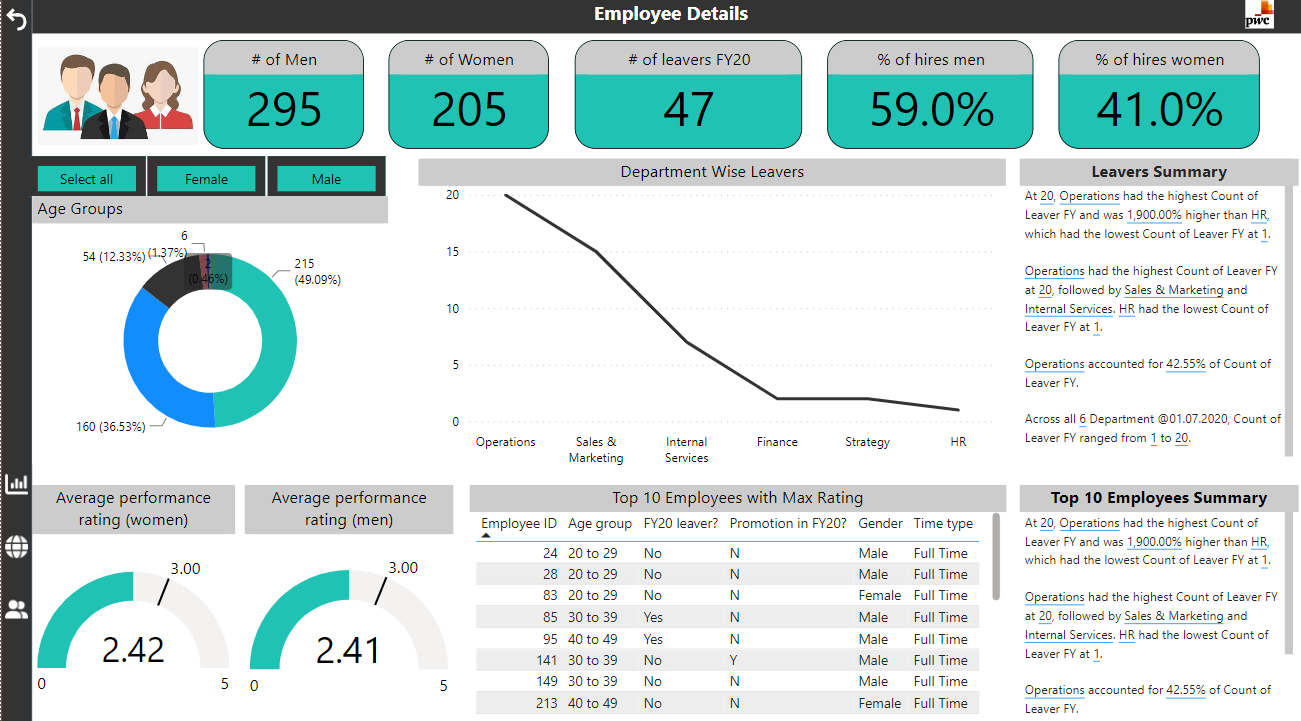

What the dashboard file says about the page in this screenshot:
{"tool":"powerbi","page":{"name":"Employee Details","canvas":[1280,720],"ordinal":2},"visuals":[{"type":"card","title":"# of Men","fields":{"Values":["Measure.# of men"]},"box":[198.3,44,156.5,106.3],"z":0},{"type":"card","title":"# of Women","fields":{"Values":["Measure.# of women"]},"box":[379.4,44,156.5,106.3],"z":1000},{"type":"card","title":"# of leavers FY20","fields":{"Values":["Measure.# of leavers"]},"box":[560.6,44,222.5,106.3],"z":2000},{"type":"card","title":"% of hires men","fields":{"Values":["Measure.% of hires men"]},"box":[807.8,44,201.7,106.3],"z":3000},{"type":"card","title":"% of hires women","fields":{"Values":["Measure.% of hires women"]},"box":[1034.2,44,196.8,106.3],"z":4000},{"type":"textbox","title":"Leavers Summary","box":[996.3,160.1,272.6,308],"z":5000},{"type":"lineChart","title":"Department Wise Leavers","fields":{"Y":["CountNonNull(Pharma Group AG.Leaver FY)"],"Category":["Pharma Group AG.Department @01.07.2020"]},"box":[408.3,160.1,574.5,308],"z":6000},{"type":"gauge","fields":{"Y":["Measure.Average performance rating (women)"]},"box":[30.6,479.2,198,232.3],"z":7000},{"type":"gauge","fields":{"Y":["Measure.Average performance rating (men)"]},"box":[238.4,479.2,204.1,232.3],"z":8000},{"type":"tableEx","title":"Top 10 Employees with Max Rating","fields":{"Values":["Pharma Group AG.Employee ID","Pharma Group AG.Age group","Pharma Group AG.FY20 leaver?","Pharma Group AG.Promotion in FY20?","Pharma Group AG.Gender","Pharma Group AG.Time type"]},"box":[458.4,479.2,524.4,232.3],"z":9000},{"type":"textbox","title":"Top 10 Employees Summary","box":[996.3,479.2,272.6,232.3],"z":10000},{"type":"shape","box":[0,0,30.6,720],"z":11000},{"type":"slicer","fields":{"Values":["Pharma Group AG.Gender"]},"box":[0,150.4,399.7,46.5],"z":12000},{"type":"donutChart","title":"Age Groups","fields":{"Y":["CountNonNull(Pharma Group AG.Age group)"],"Category":["Pharma Group AG.Age group"]},"box":[30.6,196.8,348.4,261.6],"z":13000},{"type":"image","box":[30.6,37.9,167.5,122.2],"z":14000},{"type":"textbox","box":[30.6,0,1249.3,37.9],"z":15000},{"type":"actionButton","box":[0,3.7,30.6,40.3],"z":16000},{"type":"actionButton","box":[0,458.4,30.6,40.3],"z":17000},{"type":"actionButton","box":[0,519.5,30.6,40.3],"z":18000},{"type":"actionButton","box":[0,580.6,30.6,40.3],"z":19000},{"type":"image","box":[1180.8,0,99,37.9],"z":20000}]}

Visuals, with their boxes on the page's 1280x720 design canvas (x1, y1, x2, y2). These are canvas units, not pixel positions in the 1301x721 screenshot, which may show the page scaled, cropped or inside an application window:
"# of Men" card: (x1=198, y1=44, x2=355, y2=150)
"# of Women" card: (x1=379, y1=44, x2=536, y2=150)
"# of leavers FY20" card: (x1=561, y1=44, x2=783, y2=150)
"% of hires men" card: (x1=808, y1=44, x2=1010, y2=150)
"% of hires women" card: (x1=1034, y1=44, x2=1231, y2=150)
"Leavers Summary" textbox: (x1=996, y1=160, x2=1269, y2=468)
"Department Wise Leavers" lineChart: (x1=408, y1=160, x2=983, y2=468)
gauge - Measure.Average performance rating (women): (x1=31, y1=479, x2=229, y2=712)
gauge - Measure.Average performance rating (men): (x1=238, y1=479, x2=442, y2=712)
"Top 10 Employees with Max Rating" tableEx: (x1=458, y1=479, x2=983, y2=712)
"Top 10 Employees Summary" textbox: (x1=996, y1=479, x2=1269, y2=712)
shape: (x1=0, y1=0, x2=31, y2=720)
slicer - Pharma Group AG.Gender: (x1=0, y1=150, x2=400, y2=197)
"Age Groups" donutChart: (x1=31, y1=197, x2=379, y2=458)
image: (x1=31, y1=38, x2=198, y2=160)
textbox: (x1=31, y1=0, x2=1280, y2=38)
actionButton: (x1=0, y1=4, x2=31, y2=44)
actionButton: (x1=0, y1=458, x2=31, y2=499)
actionButton: (x1=0, y1=520, x2=31, y2=560)
actionButton: (x1=0, y1=581, x2=31, y2=621)
image: (x1=1181, y1=0, x2=1280, y2=38)
